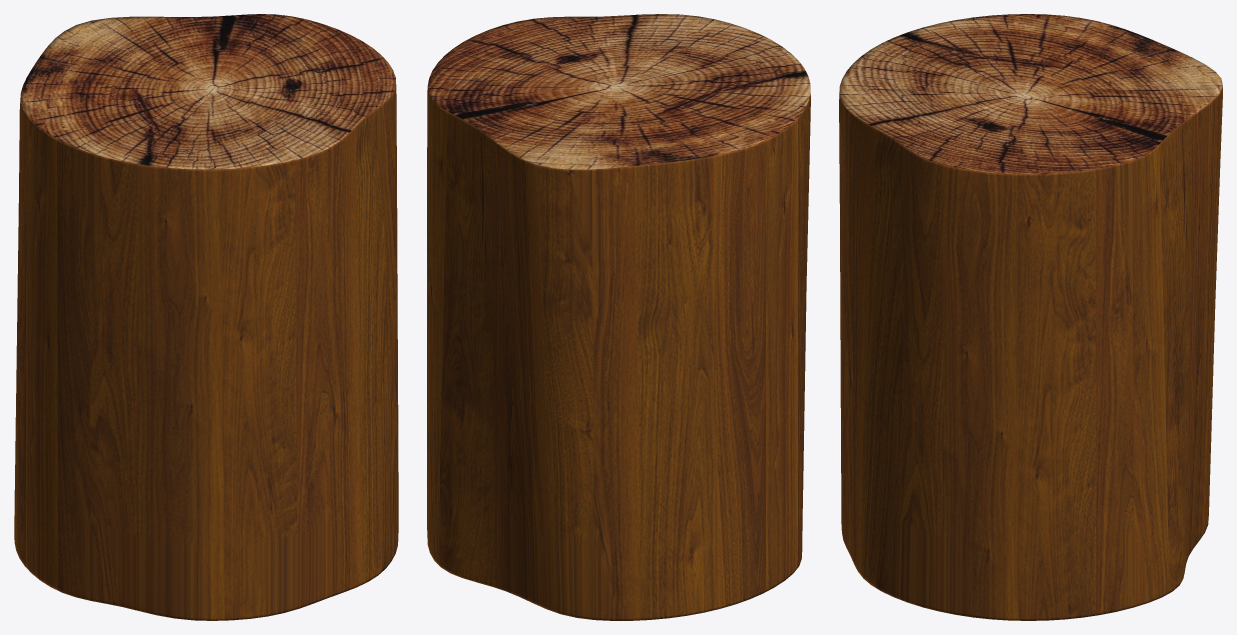
The model's file is Jungle-Side-Table.glb.
3 renders of one model, left to right at view 1: azimuth 30°, elevation 25°; view 2: azimuth 150°, elevation 25°; view 3: azimuth 270°, elevation 25°, orthographic.
Visible parts, largest first — view 1: Cylinder; view 2: Cylinder; view 3: Cylinder.
Part boxes in pixels (x1=…): Cylinder: x1=14, y1=14, x2=398, y2=620; Cylinder: x1=427, y1=14, x2=810, y2=620; Cylinder: x1=839, y1=14, x2=1222, y2=620.
Size of the model in its own units: 0.3477 by 0.45 by 0.3507.
2 materials, 2 textured.
